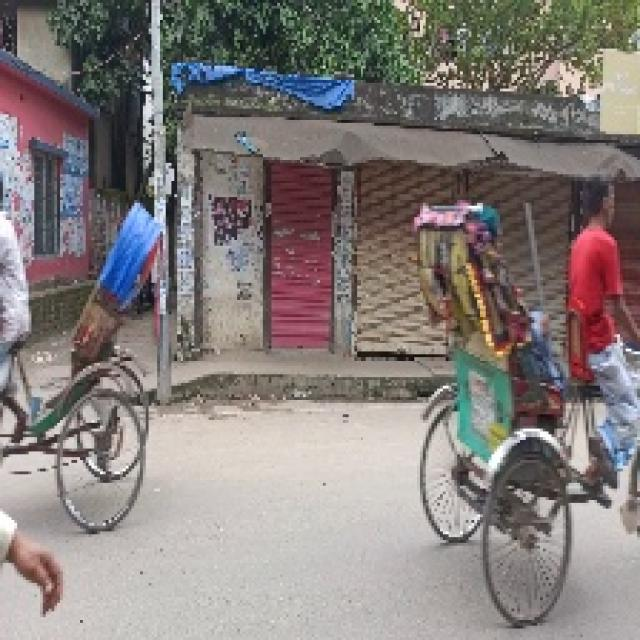rickshaw: (408, 177, 637, 605), (4, 158, 172, 533)
